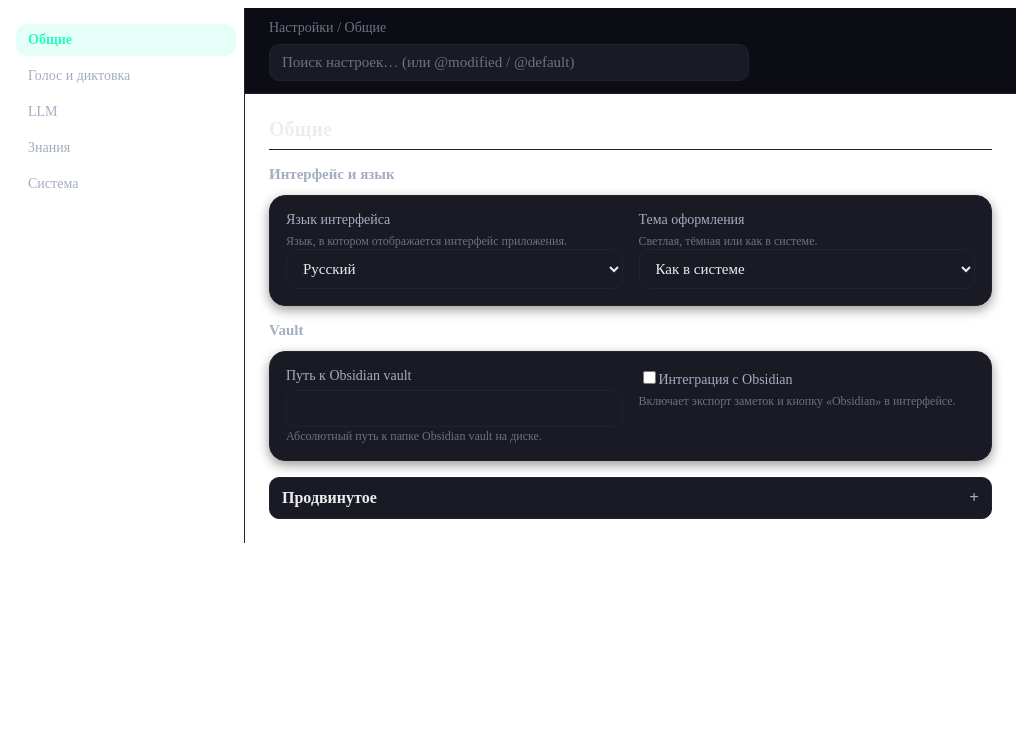
Test: Settings IA — all 5 categories render at least one field › system category renders at least one field
Click the button with test id "settings-sidebar-system".
click(126, 184)  # box [16,168,236,200]
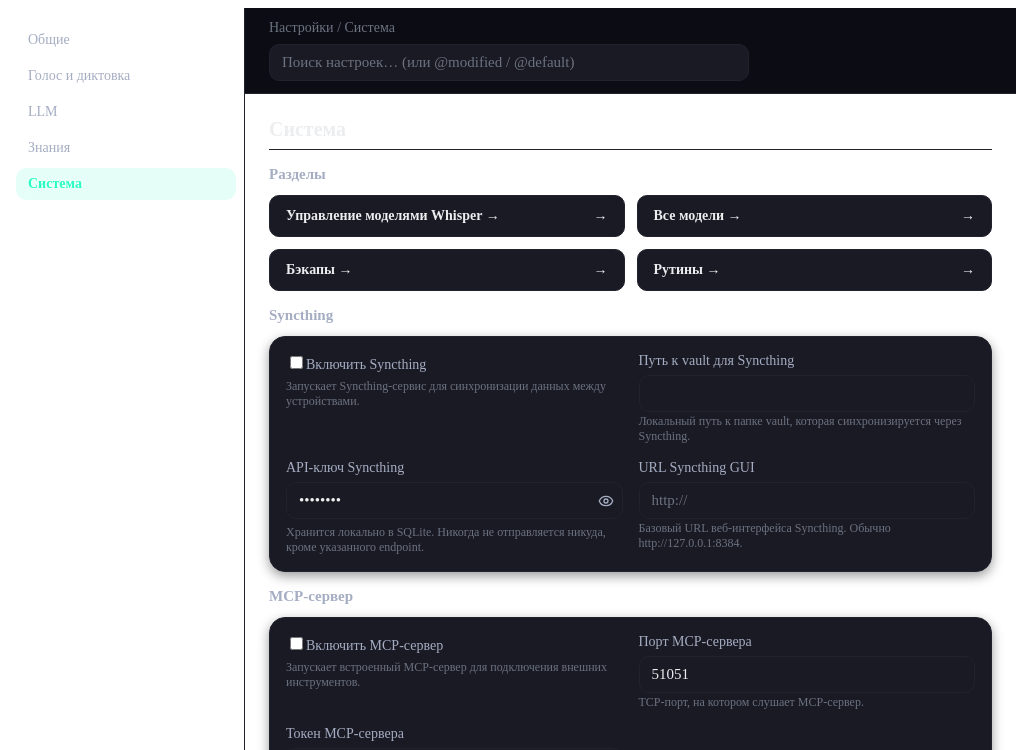
Expected: the element with test id "field-mcpServerEnabled" is shown, [286,634,622,710]
